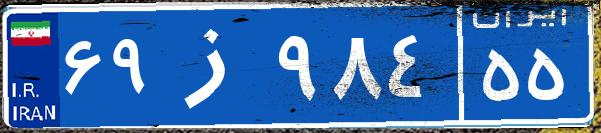4: (385, 28, 445, 110)
5: (475, 38, 525, 113), (525, 38, 570, 115)
6: (57, 26, 110, 107)
8: (330, 28, 385, 110)
9: (273, 28, 330, 110), (110, 28, 158, 105)
ز: (158, 15, 273, 115)
